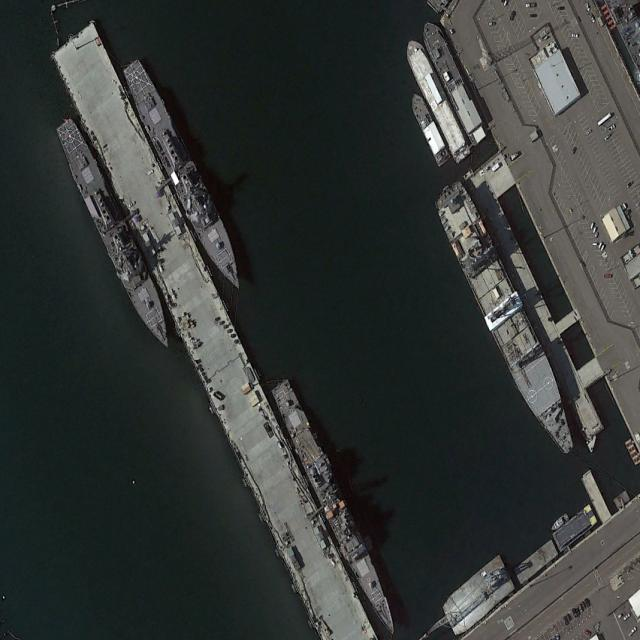Cruiser: (267, 372, 404, 640)
Destroyer: (118, 54, 250, 300), (52, 111, 179, 357)
Other Ship: (428, 174, 587, 466), (417, 14, 490, 148), (401, 33, 473, 164), (406, 86, 452, 167)
